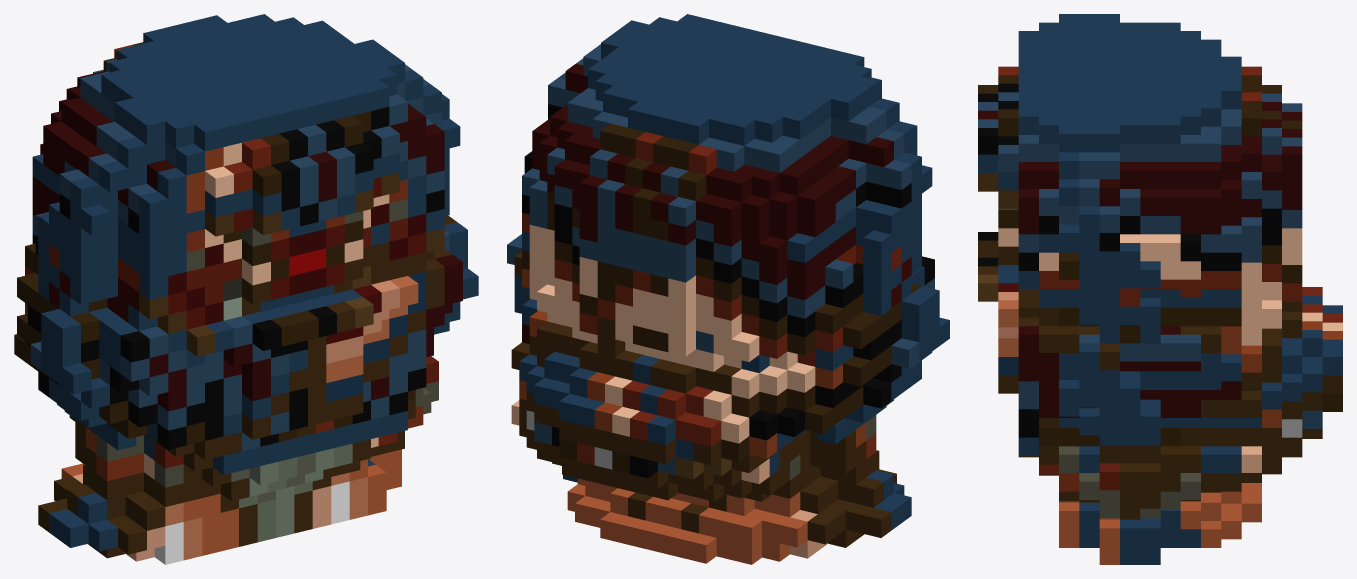
Rendered from Icon_016_02.obj.
The picture shows the model from 3 angles, left to right: view 1: azimuth 30°, elevation 25°; view 2: azimuth 150°, elevation 25°; view 3: azimuth 270°, elevation 25°; orthographic projection. The views are drawn at different scales.
Size of the model in its own units: 2.2 by 2.3 by 1.8.
Materials: 1 (1 with a texture image).
